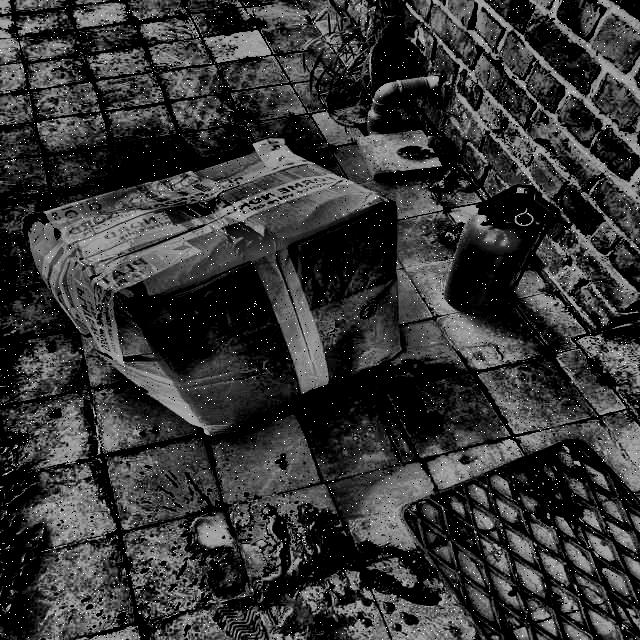box: (14, 128, 407, 453)
hole: (476, 184, 548, 234)
wet: (123, 278, 228, 403)
